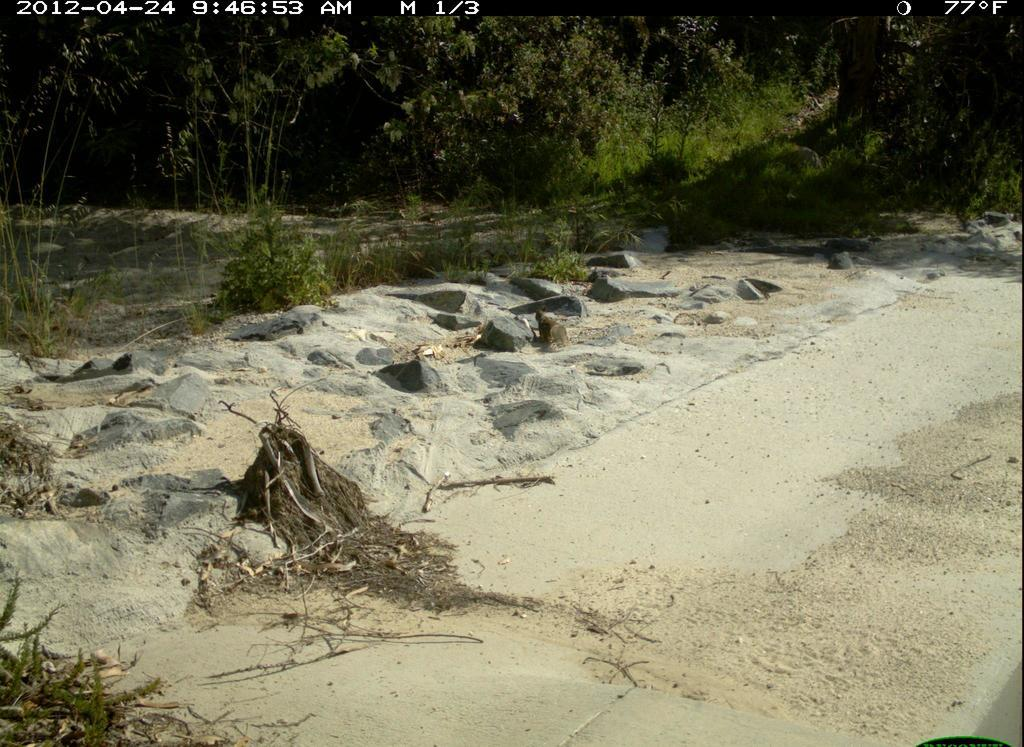squirrel: (533, 305, 575, 353)
